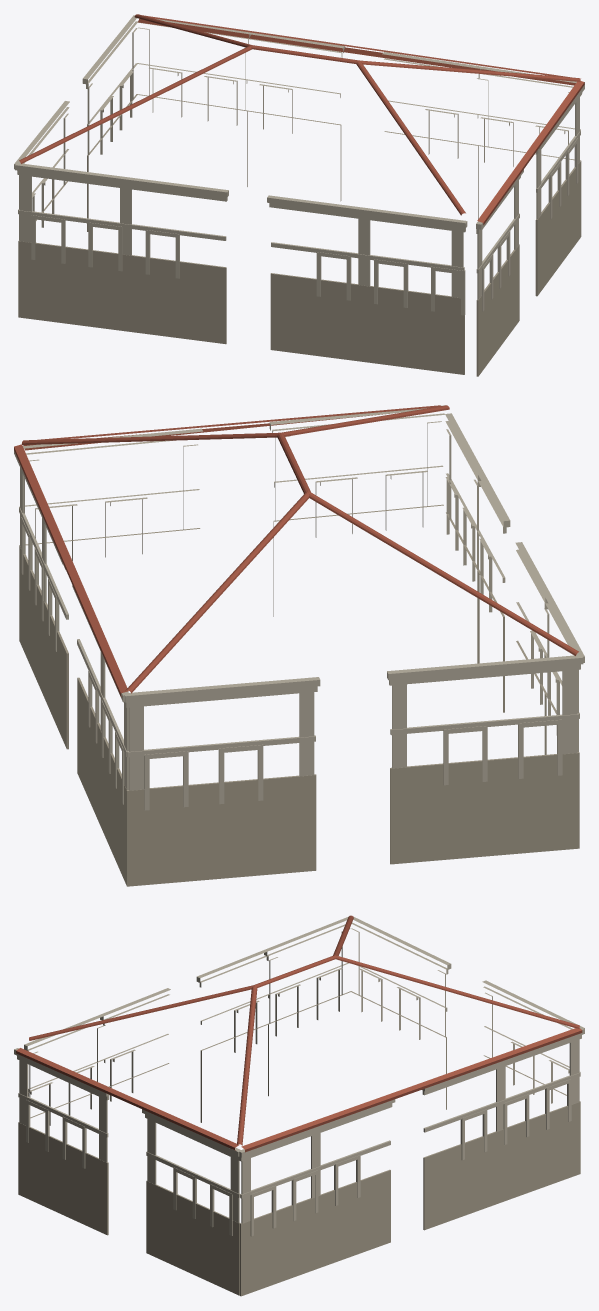
3 views of the same model, one above another, from view 1: azimuth 30°, elevation 25°; view 2: azimuth 150°, elevation 25°; view 3: azimuth 270°, elevation 25° (orthographic). The views are drawn at different scales.
Parts seen in each view (by area): view 1: detail; view 2: detail; view 3: detail.
Boxes of the visible parts, x1=… form: detail: x1=14, y1=14, x2=584, y2=376; detail: x1=14, y1=405, x2=584, y2=886; detail: x1=14, y1=915, x2=584, y2=1296.
Bounding box in the file's own units: 29.46 × 12.28 × 30.02.
